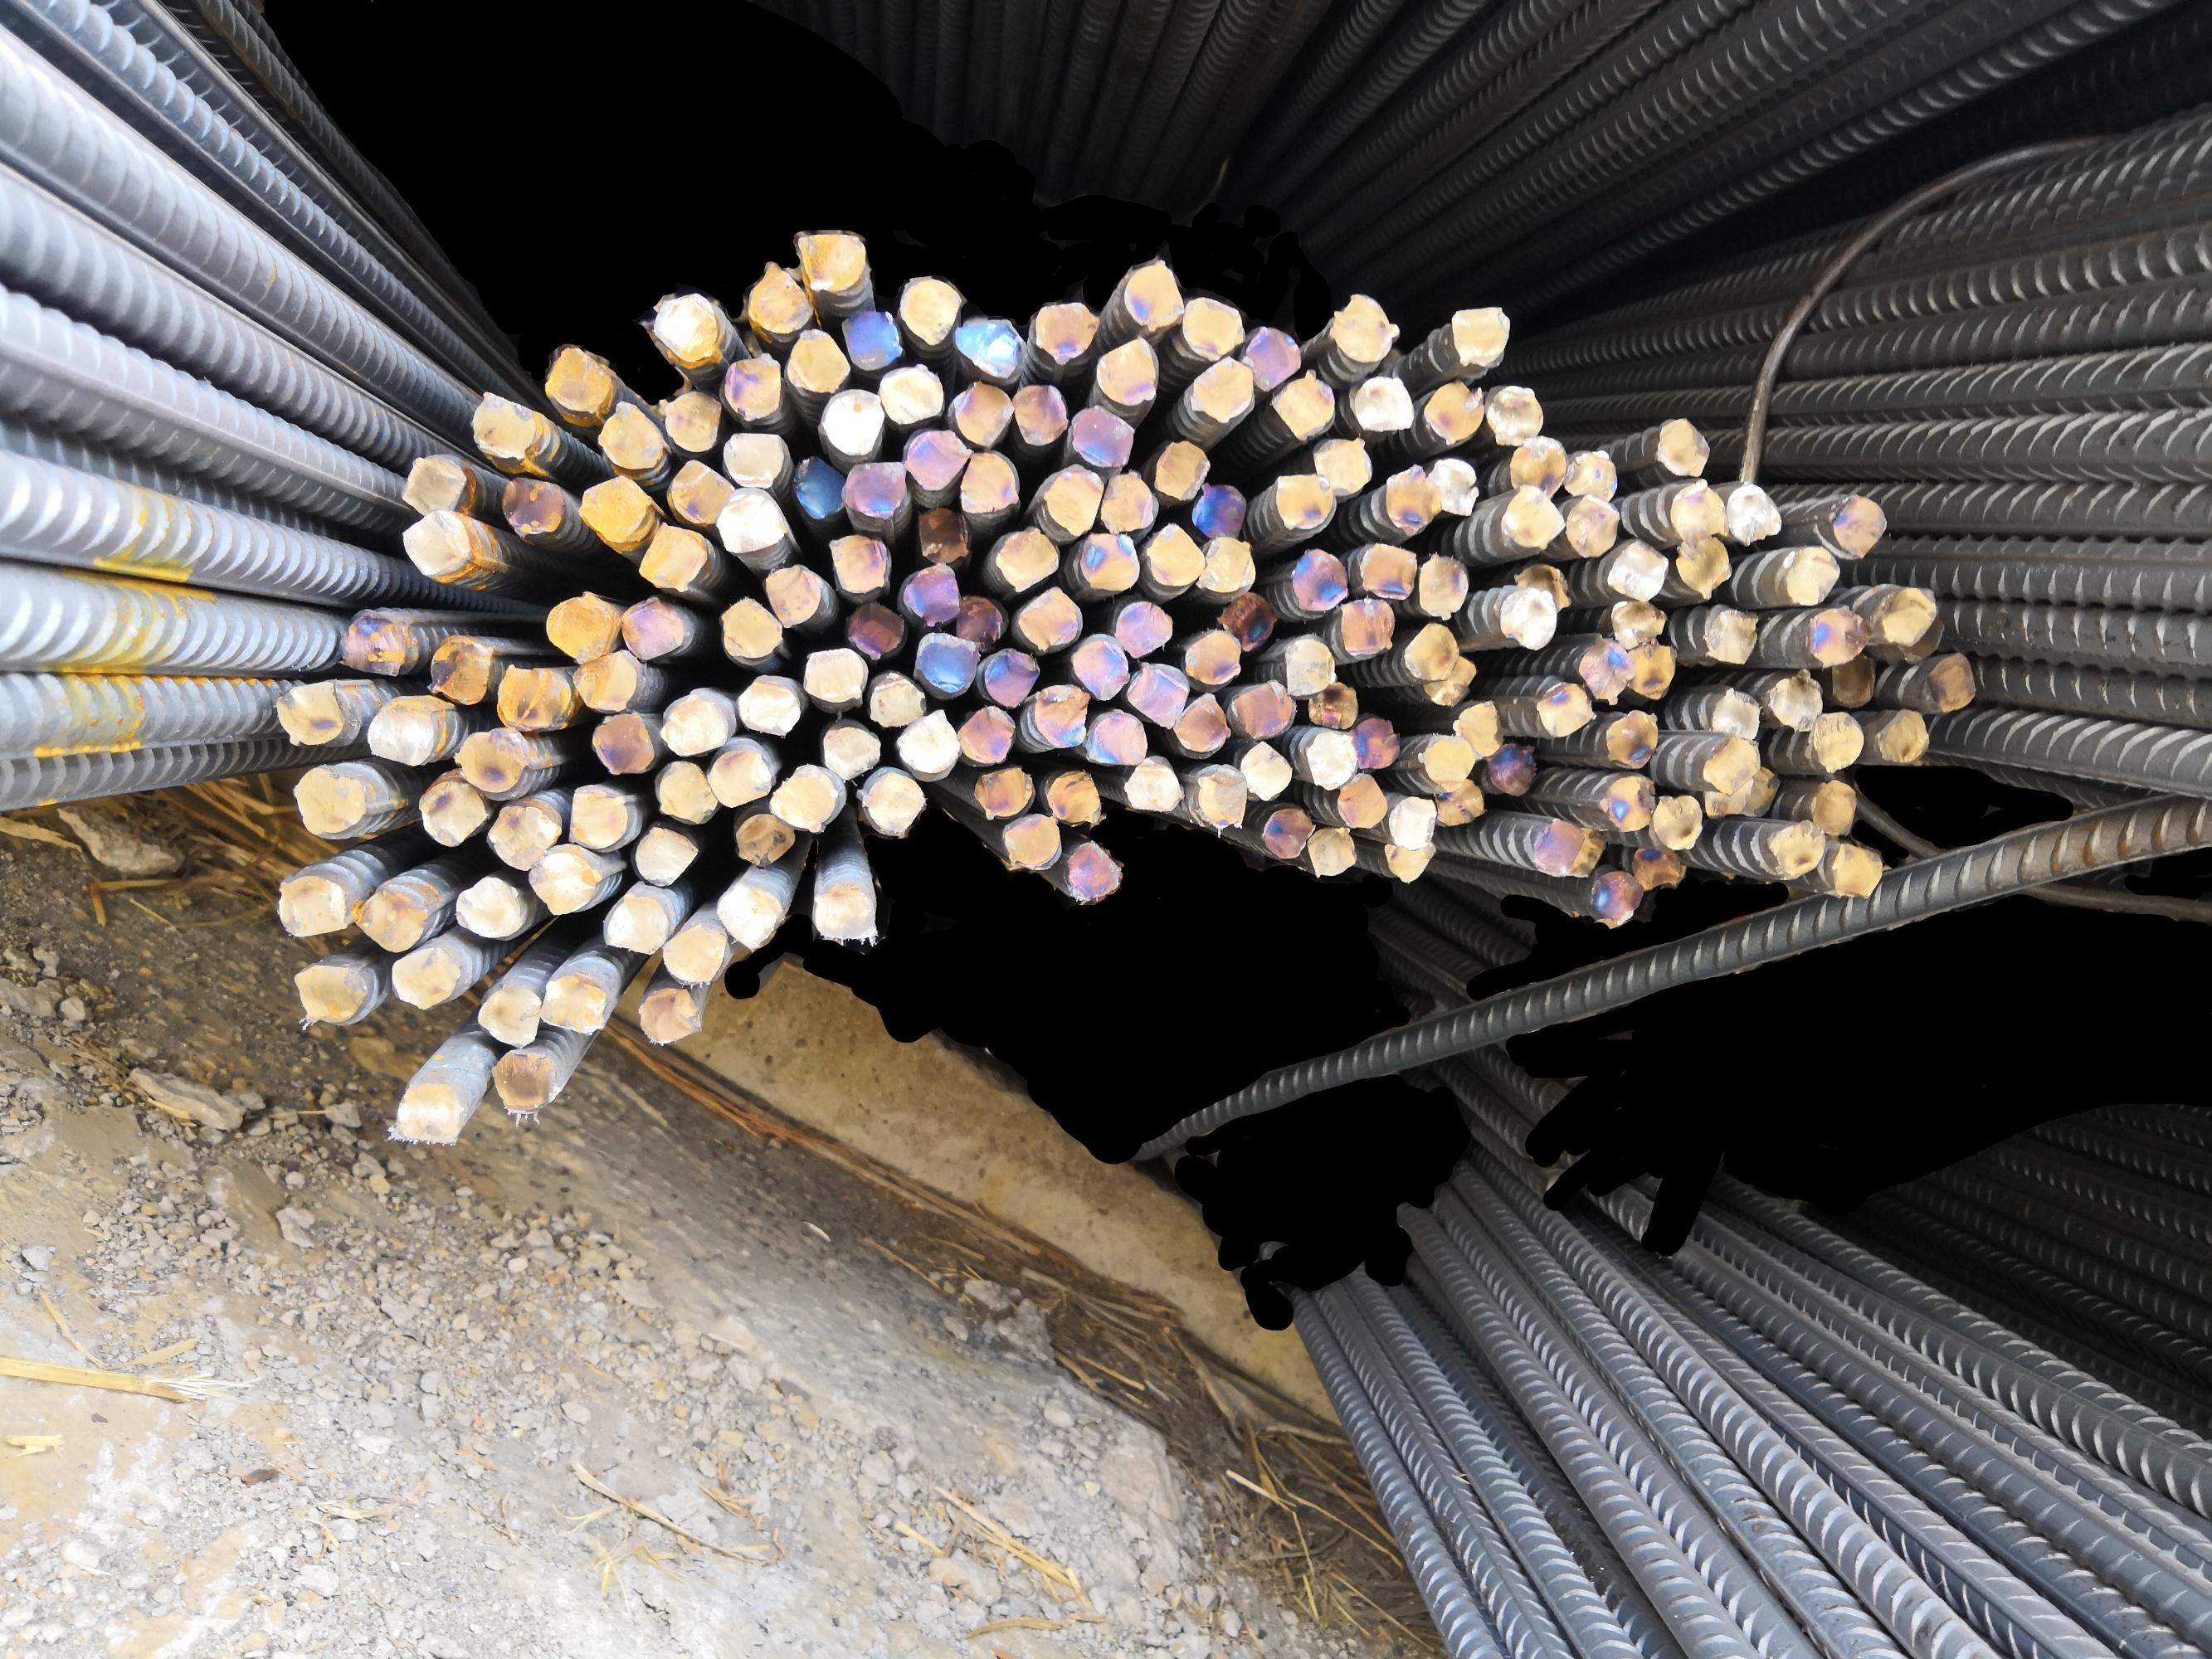bar: (643, 291, 723, 369), (539, 342, 619, 420), (575, 476, 659, 551), (462, 390, 546, 462), (523, 847, 603, 918), (744, 260, 812, 342), (366, 692, 439, 767), (293, 765, 370, 836), (950, 312, 1028, 382), (769, 762, 842, 835), (338, 606, 410, 681), (485, 802, 563, 870), (655, 688, 734, 756), (779, 326, 852, 397), (899, 274, 971, 345), (415, 775, 486, 847), (295, 955, 366, 1026), (716, 488, 790, 558), (1325, 295, 1398, 364), (659, 462, 734, 530), (638, 526, 715, 592), (544, 592, 621, 659), (812, 871, 879, 948), (403, 512, 481, 577), (450, 728, 528, 793), (1114, 256, 1184, 328), (1093, 336, 1163, 408), (988, 523, 1062, 591), (791, 228, 866, 295), (397, 451, 474, 516), (354, 887, 432, 950), (497, 664, 568, 732), (274, 871, 345, 939), (619, 598, 692, 664), (392, 1080, 465, 1147), (858, 769, 926, 838), (816, 385, 882, 457), (943, 380, 1014, 446), (275, 681, 347, 748), (427, 631, 490, 706), (451, 878, 528, 939), (702, 739, 772, 805), (715, 884, 784, 950), (899, 429, 969, 495), (720, 350, 784, 422), (495, 477, 567, 542), (596, 401, 659, 474), (718, 427, 793, 488), (1044, 464, 1105, 538), (567, 781, 633, 849), (1602, 535, 1670, 601), (877, 361, 947, 425), (713, 596, 783, 660), (1175, 295, 1245, 359), (587, 711, 659, 774), (1184, 762, 1246, 833), (1527, 819, 1598, 882), (659, 918, 725, 985), (842, 458, 908, 525), (1123, 660, 1189, 727), (1074, 533, 1142, 598), (629, 824, 699, 887), (568, 650, 640, 711), (732, 673, 804, 734), (657, 389, 722, 455), (540, 972, 607, 1037), (601, 892, 669, 955), (1018, 586, 1081, 653), (1187, 359, 1255, 422), (488, 1051, 558, 1112), (896, 708, 957, 777), (1032, 301, 1102, 362), (1422, 376, 1483, 446), (1288, 544, 1347, 615), (838, 308, 903, 373), (915, 633, 980, 697), (1028, 681, 1093, 746), (1499, 486, 1565, 549), (763, 561, 823, 631), (1067, 408, 1137, 467), (1381, 462, 1436, 535), (654, 762, 716, 826), (1142, 521, 1203, 587), (830, 533, 889, 601), (790, 453, 847, 523), (474, 986, 540, 1046), (1274, 368, 1333, 434), (1773, 545, 1839, 605), (1081, 711, 1149, 769), (389, 951, 458, 1007), (802, 647, 872, 702), (1578, 634, 1632, 706), (953, 453, 1016, 514), (957, 704, 1020, 765), (1508, 436, 1569, 498), (1497, 587, 1558, 650), (898, 565, 962, 624), (1100, 471, 1159, 535), (1070, 634, 1130, 699), (1231, 680, 1297, 737), (1013, 380, 1067, 450), (1415, 552, 1468, 624), (1663, 479, 1724, 540), (1271, 471, 1333, 530), (1804, 606, 1867, 666), (1245, 324, 1300, 390), (1485, 383, 1546, 443), (1400, 624, 1461, 683), (1311, 437, 1374, 495), (1532, 678, 1595, 735), (1673, 537, 1731, 599), (1701, 601, 1759, 664), (1870, 584, 1933, 641), (978, 645, 1042, 701), (1154, 437, 1210, 502), (1452, 303, 1508, 368), (1062, 842, 1119, 903), (1123, 756, 1180, 817), (1829, 495, 1886, 556), (818, 723, 882, 777), (1351, 376, 1415, 430), (1698, 739, 1762, 793), (1654, 416, 1712, 476), (1766, 819, 1823, 878), (1766, 671, 1823, 730), (1279, 636, 1335, 697), (1356, 542, 1417, 598), (1175, 692, 1229, 755), (1178, 629, 1241, 683), (1564, 495, 1618, 558), (865, 673, 929, 725), (1726, 479, 1778, 544), (1602, 775, 1659, 833), (638, 988, 699, 1042), (915, 504, 969, 565), (1809, 711, 1863, 772), (997, 816, 1060, 868), (1241, 739, 1293, 802), (973, 767, 1037, 817), (1191, 483, 1248, 538), (1605, 711, 1661, 769), (1048, 769, 1102, 828), (1110, 601, 1171, 653), (1429, 453, 1480, 516), (1222, 592, 1279, 647), (1339, 596, 1393, 653), (845, 603, 905, 655), (1304, 728, 1356, 788), (1335, 770, 1388, 829), (1203, 535, 1257, 591), (736, 812, 793, 864), (1382, 796, 1442, 847), (1560, 450, 1621, 498), (1829, 843, 1883, 897), (1588, 871, 1640, 927), (1874, 708, 1930, 760), (1924, 653, 1975, 711), (1257, 805, 1311, 857), (1487, 741, 1537, 796), (1651, 791, 1701, 847), (1452, 699, 1504, 751), (1518, 561, 1571, 613), (1612, 598, 1668, 647), (1626, 641, 1675, 697), (1809, 779, 1856, 836), (1419, 734, 1473, 782), (1307, 681, 1358, 732), (1306, 826, 1354, 878), (1351, 716, 1400, 769), (1710, 692, 1764, 739), (957, 594, 1002, 648), (1428, 657, 1475, 708), (1830, 652, 1876, 704), (1436, 781, 1485, 828), (1633, 843, 1682, 889), (1382, 847, 1436, 885), (1701, 777, 1752, 817), (1895, 620, 1944, 660), (1745, 767, 1778, 816)
